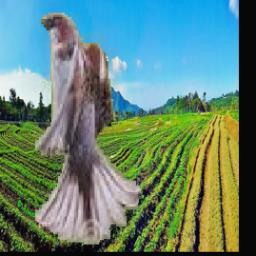Sparrow: (35, 13, 140, 244)
